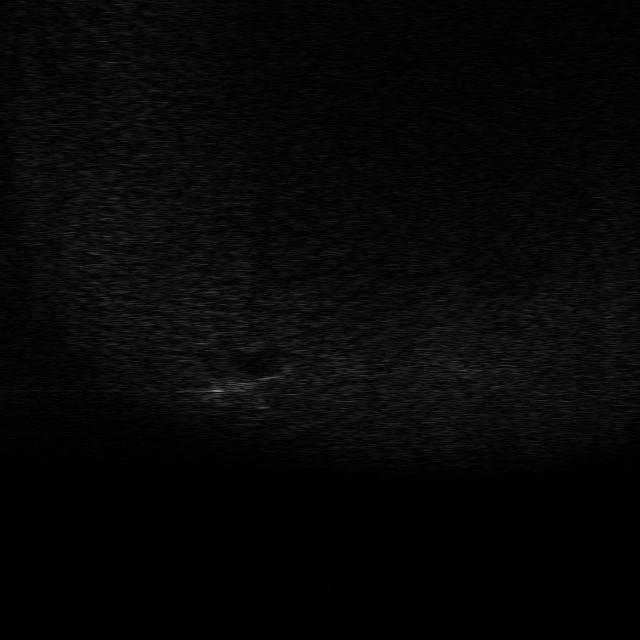plane: (186, 366, 290, 410)
